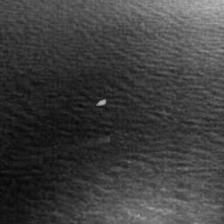Target: (95, 99, 107, 106)
